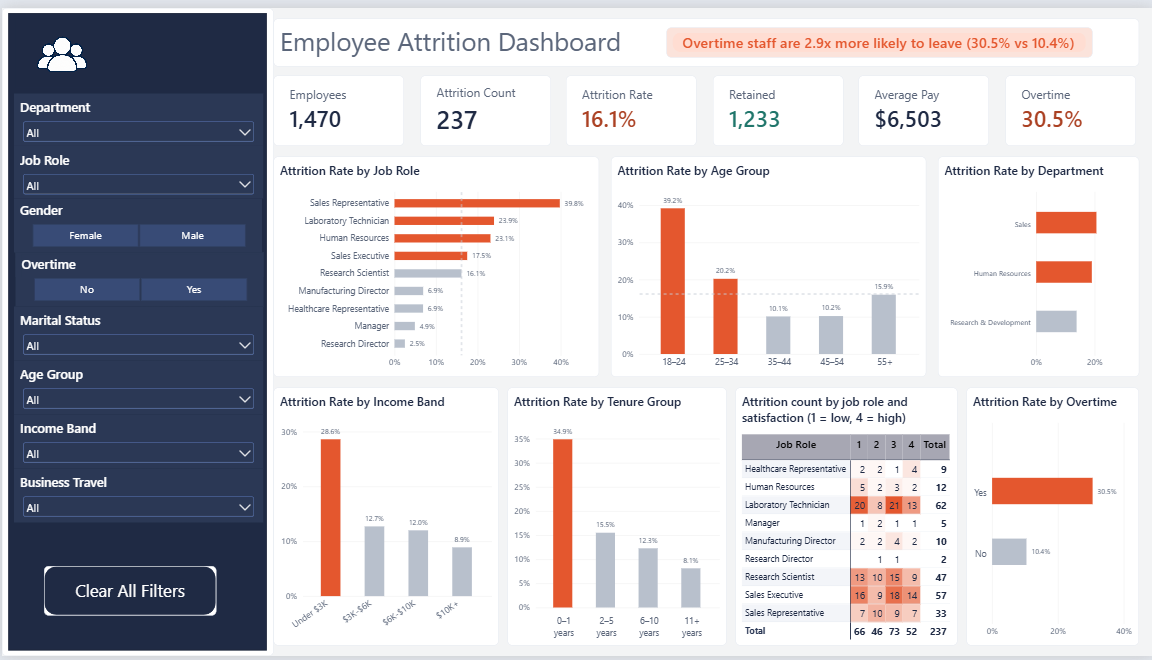

Layout of this report page (visuals, bound fields, positions):
{"tool":"powerbi","page":{"name":"Page 2","canvas":[1920,1080],"ordinal":1},"visuals":[{"type":"shape","box":[0,0,452.5,1080],"z":0},{"type":"slicer","title":"Department","fields":{"Values":["hr_attrition_clean.Department"]},"box":[20,142.5,415,87.5],"z":1000},{"type":"slicer","title":"Gender","fields":{"Values":["hr_attrition_clean.Gender"]},"box":[20,317.5,413,90],"z":2000},{"type":"slicer","title":"Job Role","fields":{"Values":["hr_attrition_clean.JobRole"]},"box":[20,230,415,87.5],"z":3000},{"type":"slicer","title":"Age Group","fields":{"Values":["hr_attrition_clean.AgeGroup"]},"box":[20,587.5,415,90],"z":4000},{"type":"slicer","title":"Marital Status","fields":{"Values":["hr_attrition_clean.MaritalStatus"]},"box":[20,497.5,415,90],"z":5000},{"type":"slicer","title":"Business Travel","fields":{"Values":["hr_attrition_clean.BusinessTravel"]},"box":[20,767.5,415,90],"z":6000},{"type":"slicer","title":"Income Band","fields":{"Values":["hr_attrition_clean.IncomeBand"]},"box":[20,677.5,415,90],"z":7000},{"type":"slicer","title":"Overtime","fields":{"Values":["hr_attrition_clean.OverTime"]},"box":[22.5,407.5,413,90],"z":8000},{"type":"textbox","box":[452.5,17.5,1442.5,80],"z":9000},{"type":"cardVisual","title":"Employees","fields":{"Data":["hr_attrition_clean.Total Employees"]},"box":[452.5,112.5,217.5,117.5],"z":10000},{"type":"cardVisual","title":"Employees","fields":{"Data":["hr_attrition_clean.Avg Monthly Income"]},"box":[1427.9,112.5,217,117],"z":11000},{"type":"cardVisual","title":"Employees","fields":{"Data":["hr_attrition_clean.Retained Employees"]},"box":[1184.2,112.5,217,117],"z":12000},{"type":"cardVisual","title":"Employees","fields":{"Data":["hr_attrition_clean.Attrition Rate"]},"box":[940.5,112.5,217,117],"z":13000},{"type":"cardVisual","title":"Employees","fields":{"Data":["hr_attrition_clean.Attrition Count"]},"box":[696.7,112.5,217,117.5],"z":14000},{"type":"cardVisual","title":"Employees","fields":{"Data":["hr_attrition_clean.Overtime Attrition Rate"]},"box":[1671.7,112.5,217,117],"z":15000},{"type":"clusteredBarChart","title":"Attrition Rate by Job Role","fields":{"Category":["hr_attrition_clean.JobRole"],"Y":["hr_attrition_clean.Attrition Rate"]},"box":[452.5,247.5,542.5,367.5],"z":16000},{"type":"clusteredColumnChart","title":"Attrition Rate by Age Group","fields":{"Category":["hr_attrition_clean.AgeGroup"],"Y":["hr_attrition_clean.Attrition Rate"]},"box":[1015,247.5,525,367.5],"z":17000},{"type":"clusteredColumnChart","title":"Attrition Rate by Income Band","fields":{"Category":["hr_attrition_clean.IncomeBand"],"Y":["hr_attrition_clean.Attrition Rate"]},"box":[452.5,632.5,375,430],"z":18000},{"type":"clusteredColumnChart","title":"Attrition Rate by Tenure Group","fields":{"Category":["hr_attrition_clean.TenureGroup"],"Y":["hr_attrition_clean.Attrition Rate"]},"box":[842.5,632.5,365,430],"z":19000},{"type":"pivotTable","title":"Attrition count by job role and satisfaction (1 = low, 4 = high)","fields":{"Columns":["hr_attrition_clean.JobSatisfaction"],"Rows":["hr_attrition_clean.JobRole"],"Values":["hr_attrition_clean.Attrition Count"]},"box":[1222.5,632.5,370,430],"z":20000},{"type":"clusteredBarChart","fields":{"Category":["hr_attrition_clean.Department"],"Y":["hr_attrition_clean.Attrition Rate"]},"box":[1560,247.5,335,367.5],"z":21000},{"type":"clusteredBarChart","fields":{"Category":["hr_attrition_clean.OverTime"],"Y":["hr_attrition_clean.Attrition Rate"]},"box":[1607.5,632.5,287.5,430],"z":22000},{"type":"actionButton","title":"Clear All Filter","box":[70,930,287.5,82.5],"z":23000},{"type":"image","box":[22.5,17.5,157.5,115],"z":24000},{"type":"cardVisual","fields":{"Data":["hr_attrition_clean.Insight Headline"]},"box":[1107.5,32.5,710,50],"z":25000}]}

Visuals, with their boxes in screenshot pixels (x1, y1, x2, y2), scaled from the page's 1920x1080 canvas onto the 1152x660 screenshot:
shape: box(0, 0, 272, 659)
"Department" slicer: box(12, 87, 261, 141)
"Gender" slicer: box(12, 194, 260, 249)
"Job Role" slicer: box(12, 141, 261, 194)
"Age Group" slicer: box(12, 359, 261, 414)
"Marital Status" slicer: box(12, 304, 261, 359)
"Business Travel" slicer: box(12, 469, 261, 524)
"Income Band" slicer: box(12, 414, 261, 469)
"Overtime" slicer: box(14, 249, 261, 304)
textbox: box(272, 11, 1137, 60)
"Employees" cardVisual: box(272, 69, 402, 141)
"Employees" cardVisual: box(857, 69, 987, 140)
"Employees" cardVisual: box(711, 69, 841, 140)
"Employees" cardVisual: box(564, 69, 694, 140)
"Employees" cardVisual: box(418, 69, 548, 141)
"Employees" cardVisual: box(1003, 69, 1133, 140)
"Attrition Rate by Job Role" clusteredBarChart: box(272, 151, 597, 376)
"Attrition Rate by Age Group" clusteredColumnChart: box(609, 151, 924, 376)
"Attrition Rate by Income Band" clusteredColumnChart: box(272, 387, 496, 649)
"Attrition Rate by Tenure Group" clusteredColumnChart: box(506, 387, 724, 649)
"Attrition count by job role and satisfaction (1 = low, 4 = high)" pivotTable: box(734, 387, 956, 649)
clusteredBarChart - hr_attrition_clean.Department x hr_attrition_clean.Attrition Rate: box(936, 151, 1137, 376)
clusteredBarChart - hr_attrition_clean.OverTime x hr_attrition_clean.Attrition Rate: box(964, 387, 1137, 649)
"Clear All Filter" actionButton: box(42, 568, 214, 619)
image: box(14, 11, 108, 81)
cardVisual - hr_attrition_clean.Insight Headline: box(664, 20, 1090, 50)
